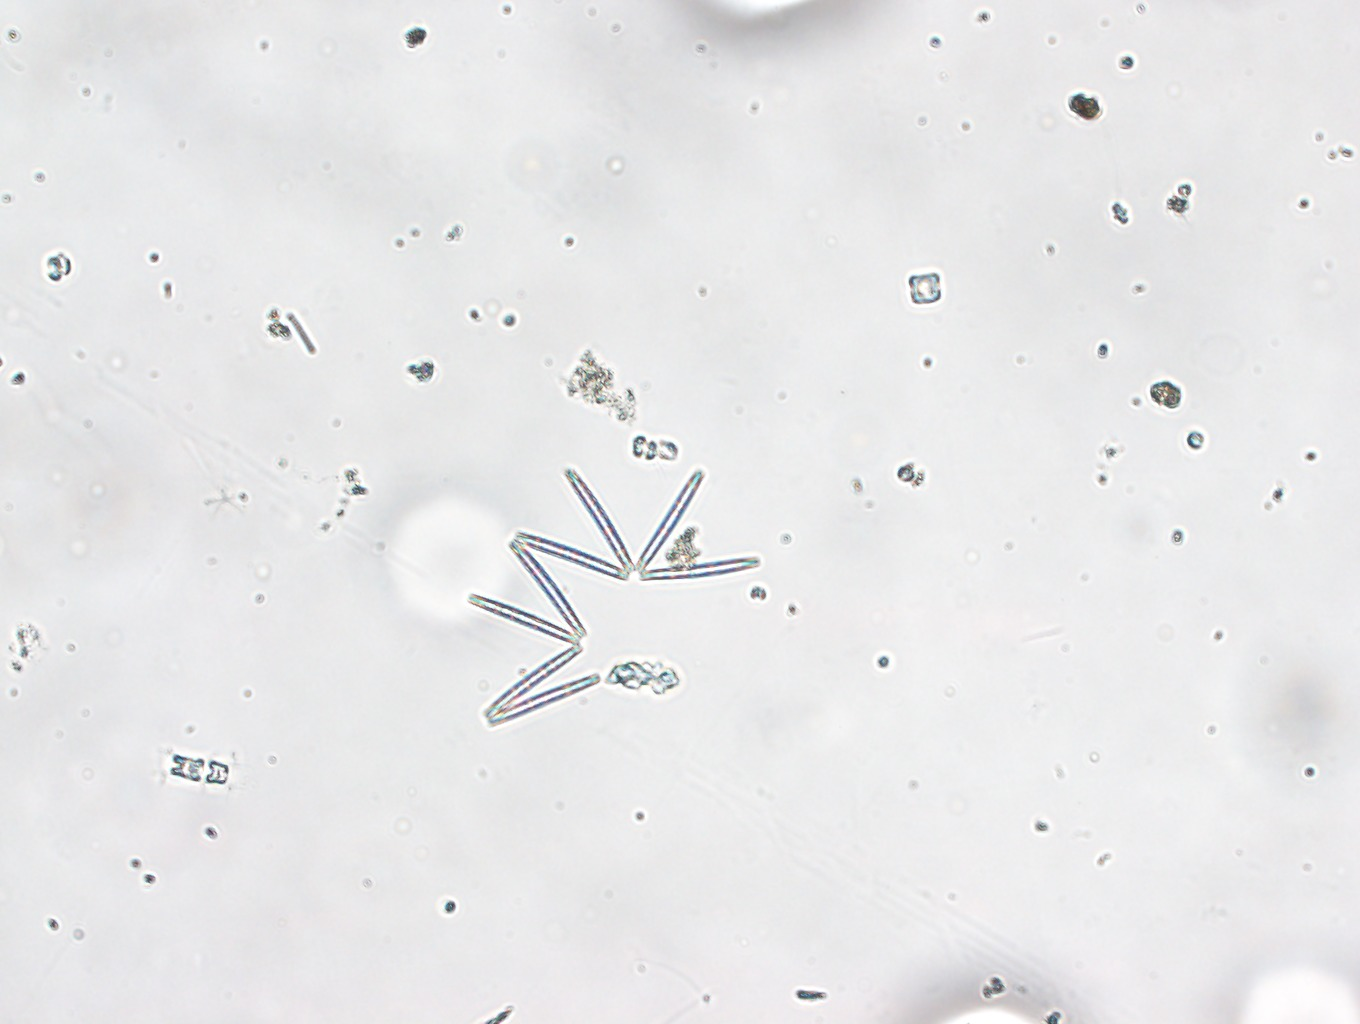thalassionema nitzschioides: (462, 456, 757, 728)
